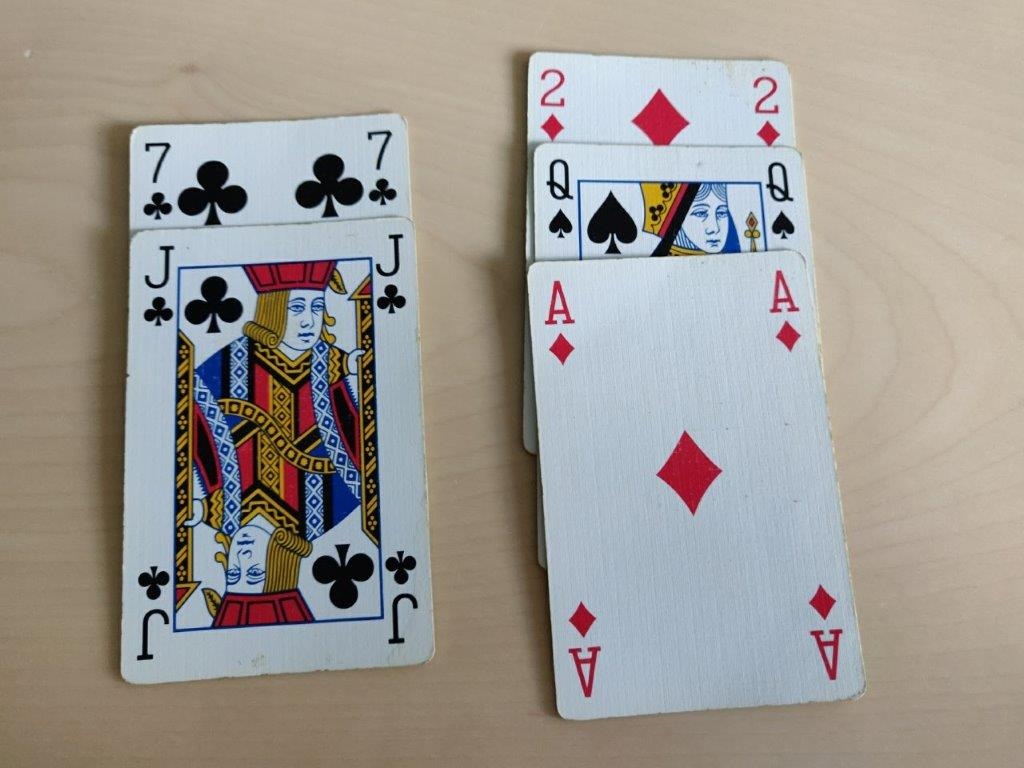2D: (535, 63, 571, 142), (750, 68, 786, 147)
7C: (138, 137, 177, 222), (361, 124, 400, 209)
AD: (540, 274, 577, 368), (768, 263, 805, 357)
JC: (141, 241, 180, 329), (372, 228, 411, 316)
QS: (763, 157, 798, 242), (545, 154, 574, 241)
